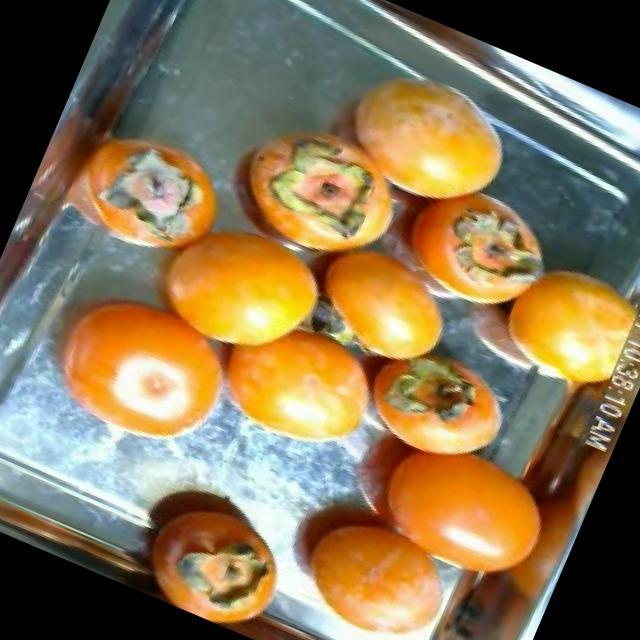Fruit: (185, 277, 417, 490), (297, 34, 539, 235), (237, 452, 495, 640), (105, 454, 315, 640), (272, 212, 482, 396), (338, 317, 537, 493), (469, 230, 640, 404)
